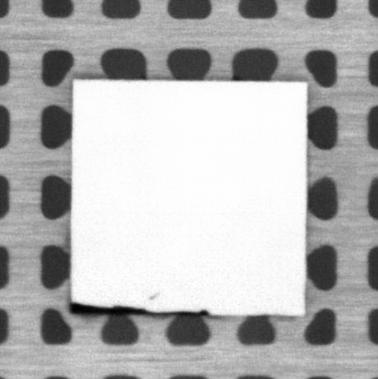DIE_BROKEN: (67, 301, 210, 317)
